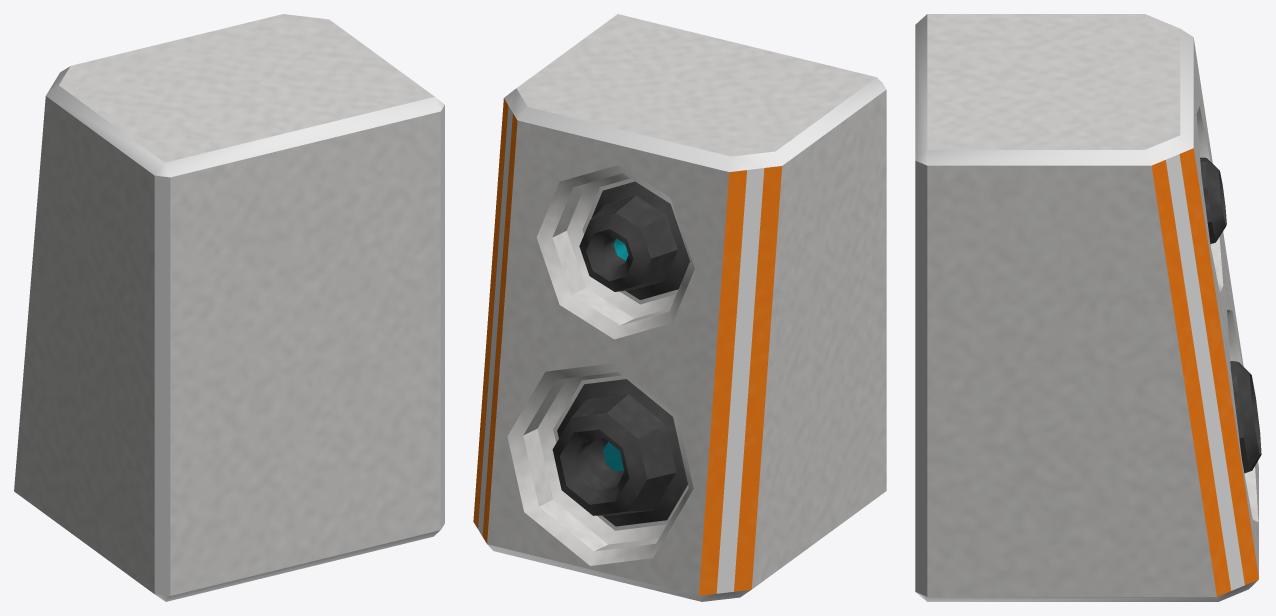
Rendered from Speaker_base_LOD0.fbx.
3 views of the same model, side by side, from view 1: azimuth 30°, elevation 25°; view 2: azimuth 150°, elevation 25°; view 3: azimuth 270°, elevation 25° (orthographic). The views are drawn at different scales.
Visible parts, largest first — view 1: Speaker_base_LOD0; view 2: Speaker_base_LOD0; view 3: Speaker_base_LOD0.
Boxes of the visible parts, x1,y1,x2,y2 form: Speaker_base_LOD0: (14,14,444,601); Speaker_base_LOD0: (473,14,886,601); Speaker_base_LOD0: (915,14,1261,601).
Bounding box in the file's own units: 82.31 × 119 × 82.51.
